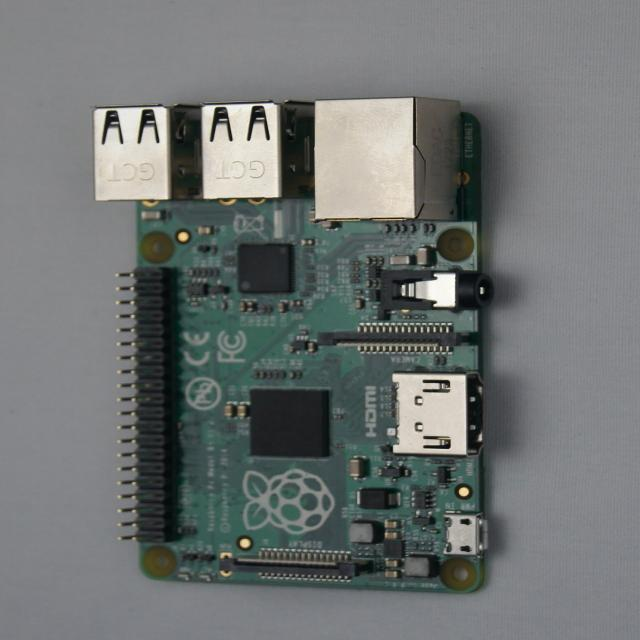Raspberry Pi 1 B-: (95, 98, 491, 592)
